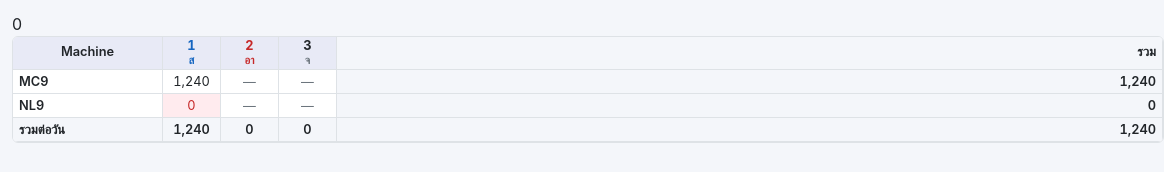
Test: คลิกช่องเดียว = เข้าโหมดแก้ inline (ไม่ใช่เลือก)
The image size is (1164, 172).
Press the mouse on the 1st cell "1,240" at {"x": 192, "y": 82}, box [163,70,221,94]
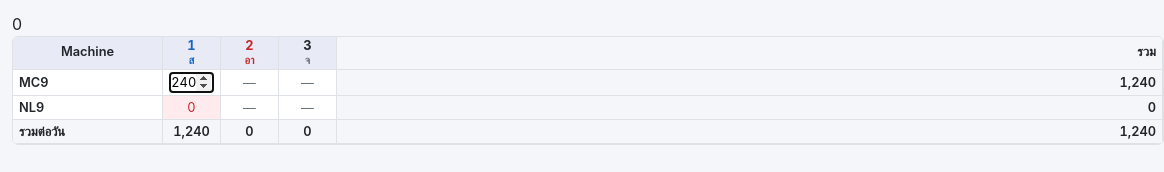
Expected: the text with test id "count" reads "0", [12,14,22,34]
Expected: the number field named "เวลาที่ใช้ได้ MC9 2026-08-01" holds "1240", [169,72,214,93]
